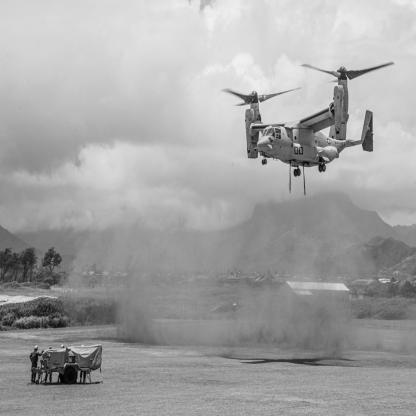V22: (221, 62, 397, 178)
